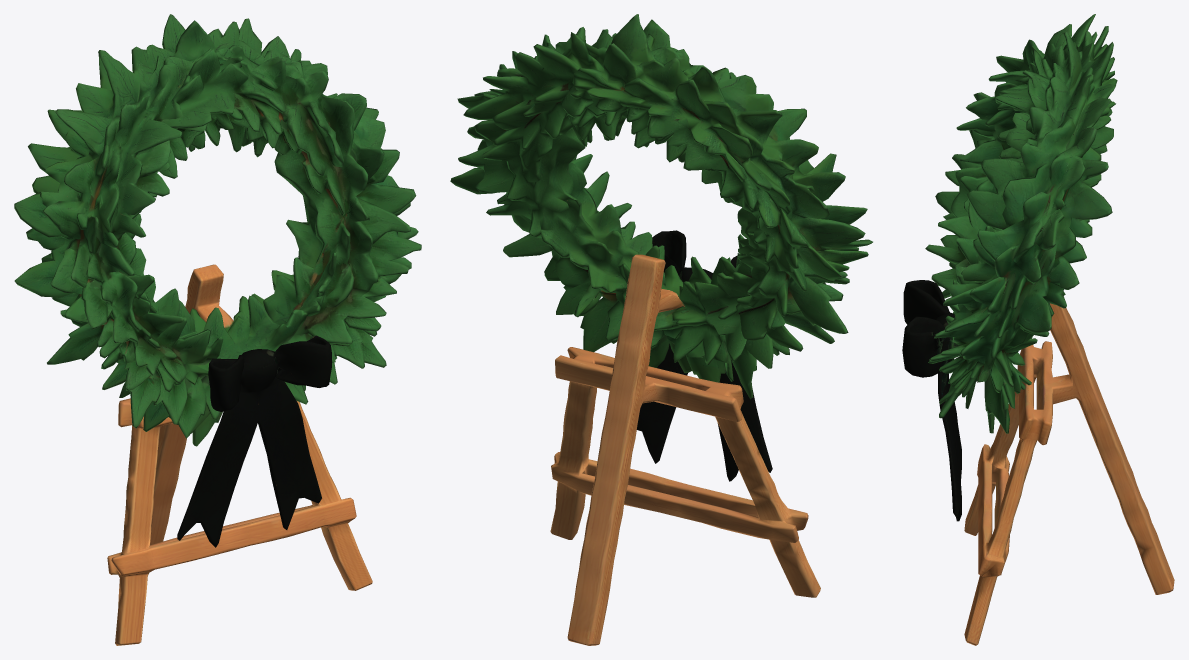
File: board_funeral_wreath.glb
The picture shows the model from 3 angles, left to right: view 1: azimuth 30°, elevation 25°; view 2: azimuth 150°, elevation 25°; view 3: azimuth 270°, elevation 25°; orthographic projection. The views are drawn at different scales.
Size of the model in its own units: 1.32 by 1.91 by 0.8415.
Materials: 1 (1 with a texture image).
